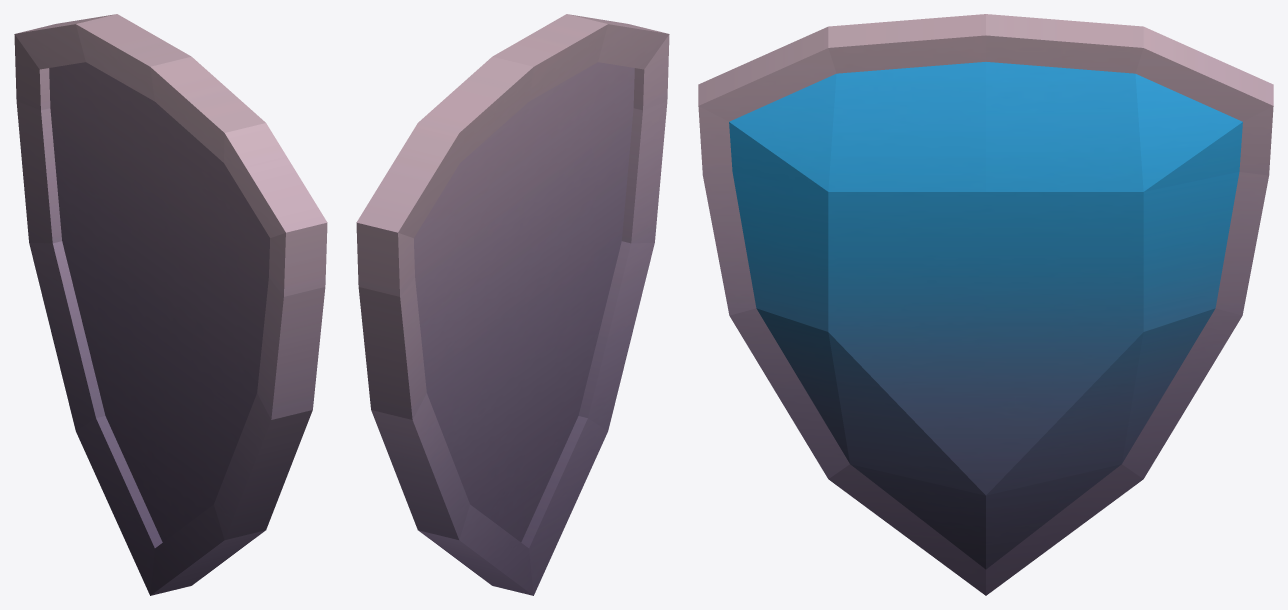
Rendered from Powerup_Shield.fbx.
3 views of the same model, side by side, from view 1: azimuth 30°, elevation 25°; view 2: azimuth 150°, elevation 25°; view 3: azimuth 270°, elevation 25° (orthographic). The views are drawn at different scales.
Parts seen in each view (by area): view 1: Defense Shield; view 2: Defense Shield; view 3: Defense Shield.
Part boxes in pixels (x1,y1,x2,y2): Defense Shield: [14, 14, 327, 595]; Defense Shield: [356, 14, 669, 595]; Defense Shield: [698, 14, 1273, 595].
Bounding box in the file's own units: 15.26 × 105 × 98.06.
